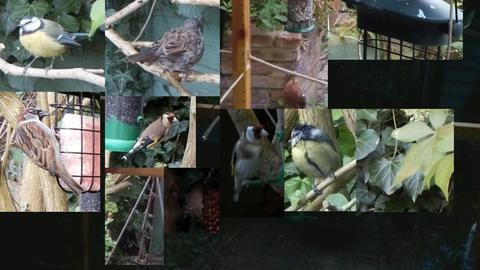blue tit: (15, 15, 90, 77), (288, 124, 341, 196)
dunnock: (120, 15, 205, 81)
goldfinch: (120, 111, 181, 164), (231, 124, 269, 202)
mouse: (183, 183, 205, 224)
sparrow: (15, 107, 85, 197)
